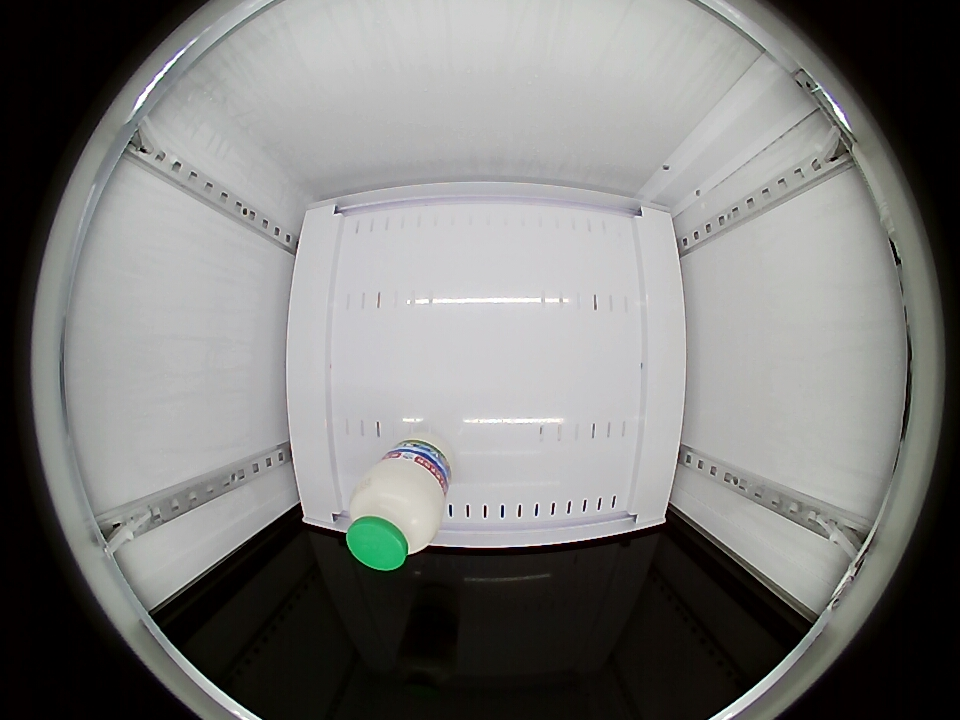liziyuan: (346, 454, 447, 571)
